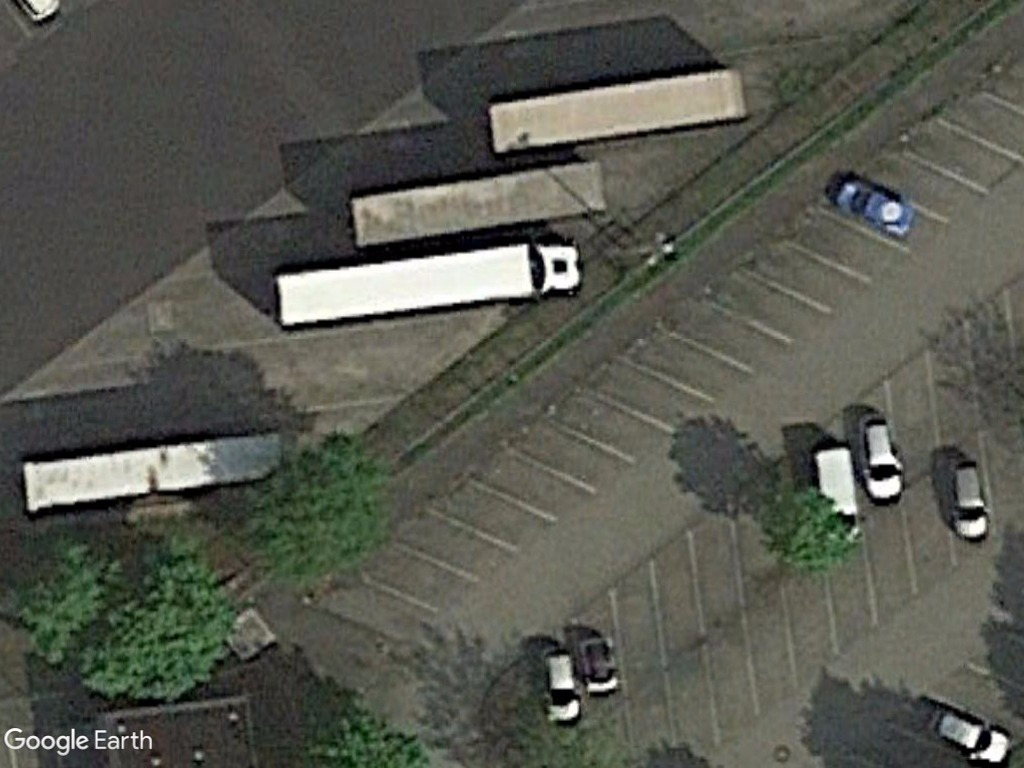car: (920, 697, 1014, 768), (856, 406, 909, 510), (943, 449, 993, 546), (538, 638, 585, 730)
longvehicle: (267, 235, 585, 336), (348, 152, 611, 256), (483, 67, 752, 161), (16, 426, 286, 519)
